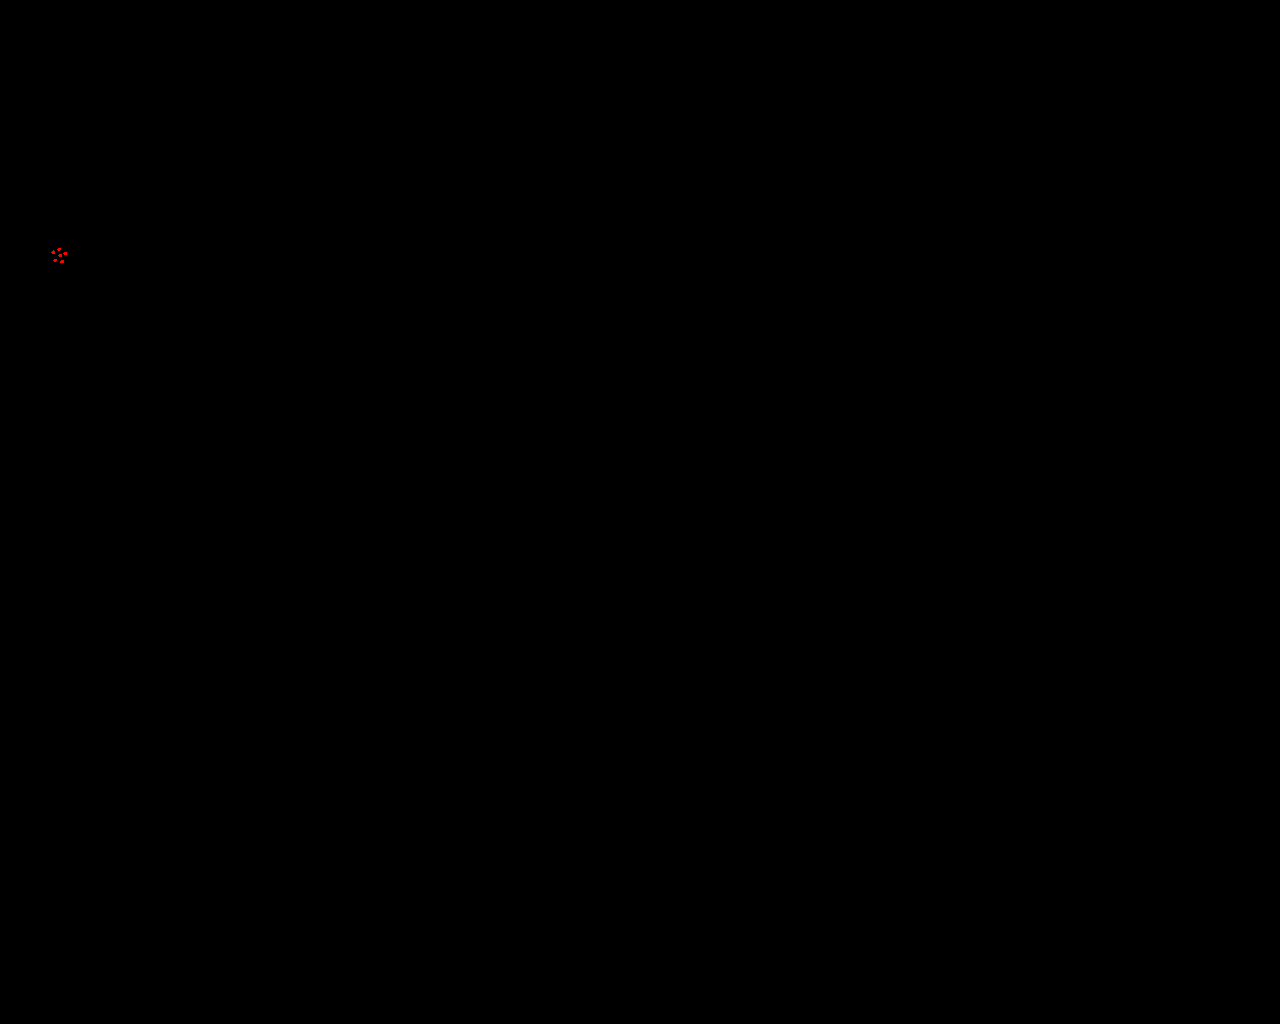Target: (51, 250, 55, 254), (63, 252, 67, 255), (53, 259, 57, 262), (60, 260, 64, 263), (57, 248, 61, 251), (59, 254, 62, 257)
